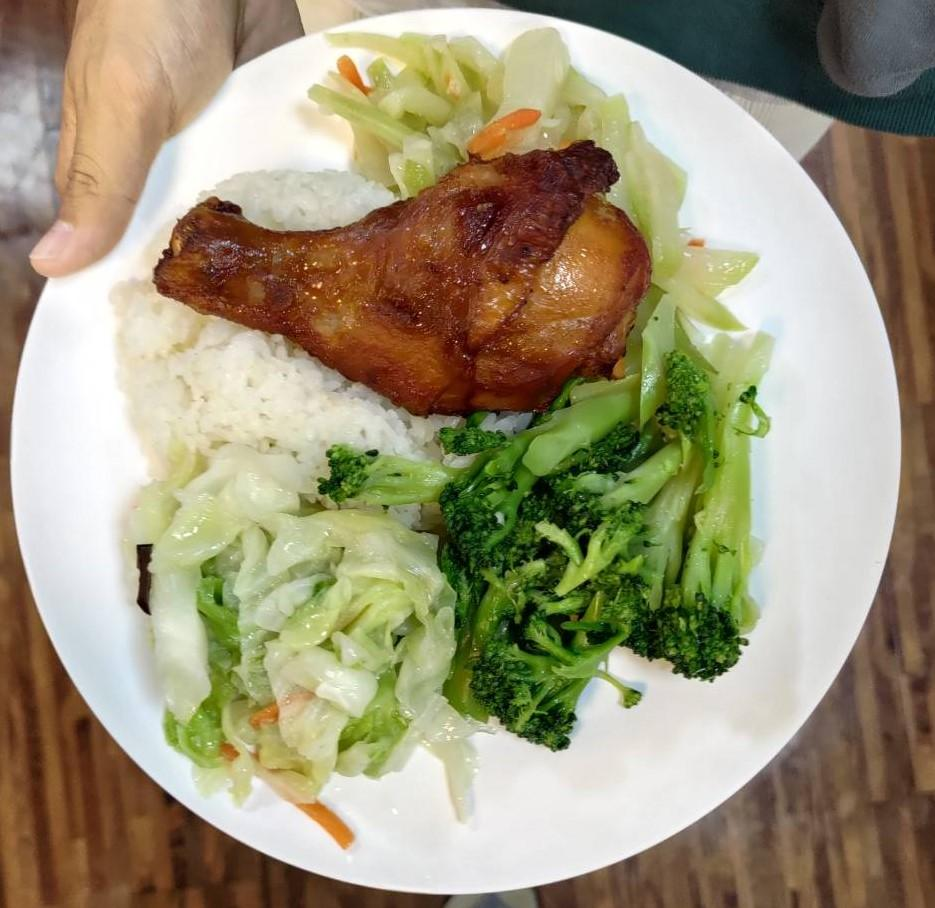big fried chicken leg: (12, 8, 907, 897)
big herbal chicken leg: (116, 168, 443, 454)
braised fish fillet: (432, 320, 778, 753), (316, 24, 752, 326), (120, 450, 462, 793)
braised pork: (152, 148, 648, 411)
